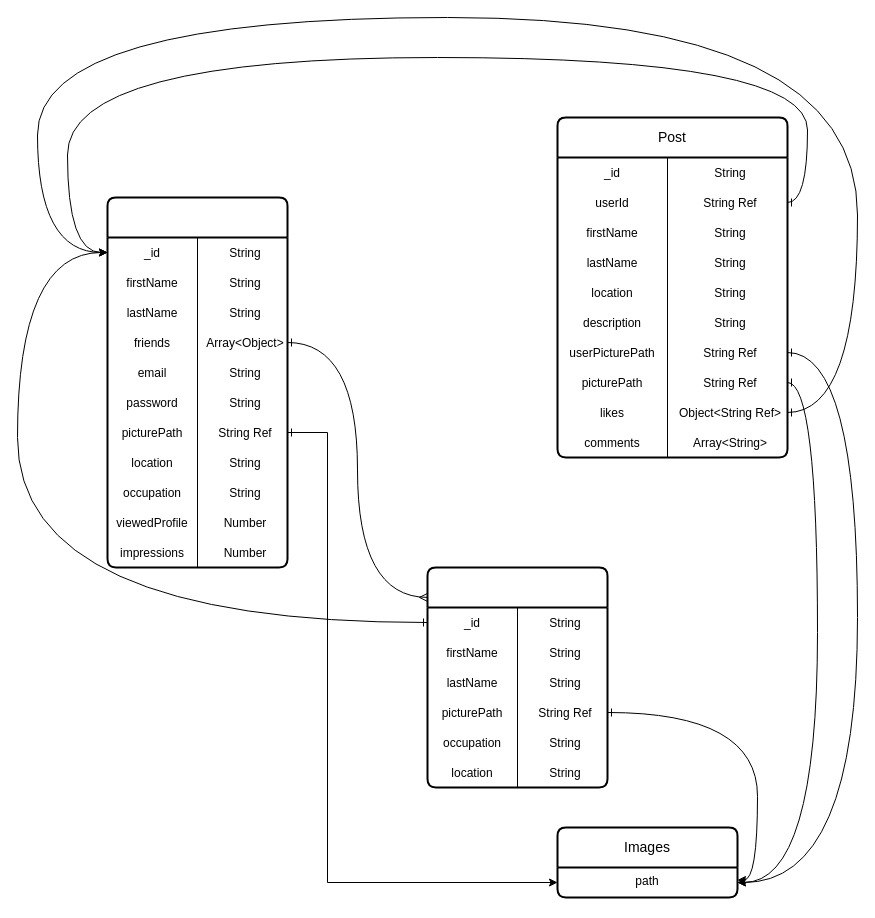
This 875x918 diagram has some shape labels left out. The box of each missing label's shape, as (x1, y1, x2, y2) in pixels:
Friend (Sub Doc): (426, 566, 608, 788)
User: (106, 196, 288, 568)
